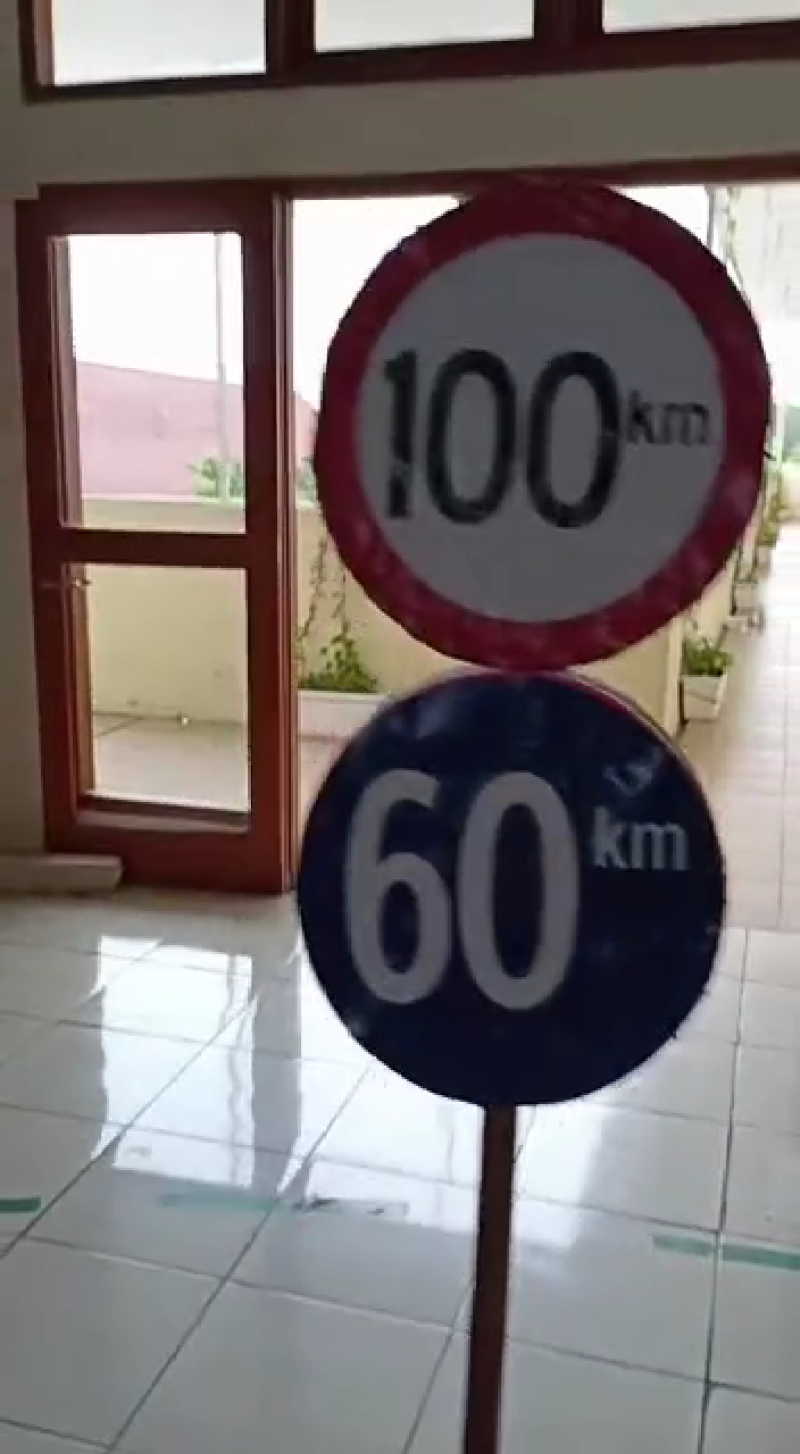batas maksimal 100kmperjam minimal 60kmperjam: (281, 171, 784, 1127)
